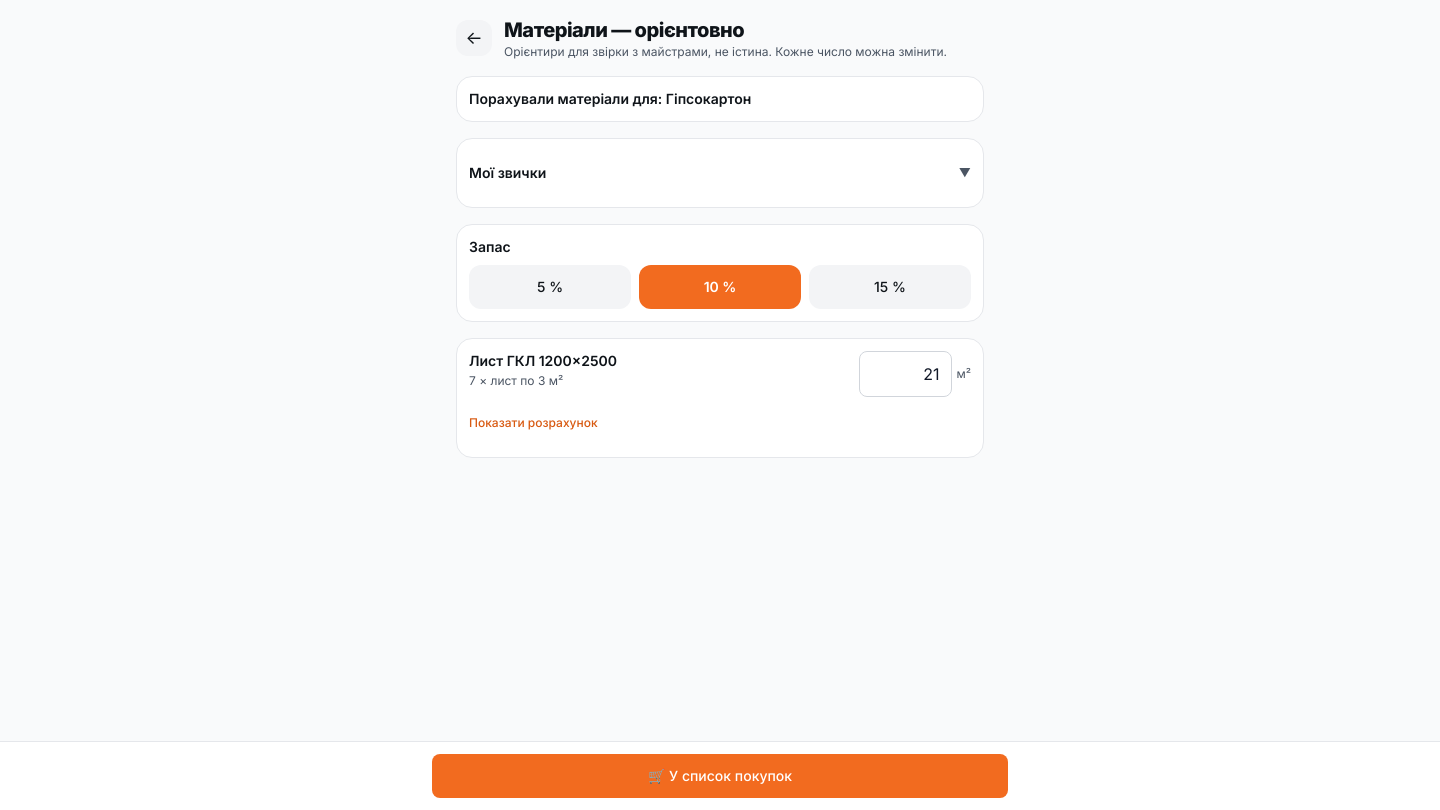
MaterialCalculatorPage › keeps the last answer on screen while a new allowance is being calculated
Expected: the text "Лист ГКЛ 1200×2500" is shown, [469,352,617,369]
What coordinates should you click on to do the following:
click the button "15 %"
I would click on:
 (890, 287)
Its box is [809,265,971,309].
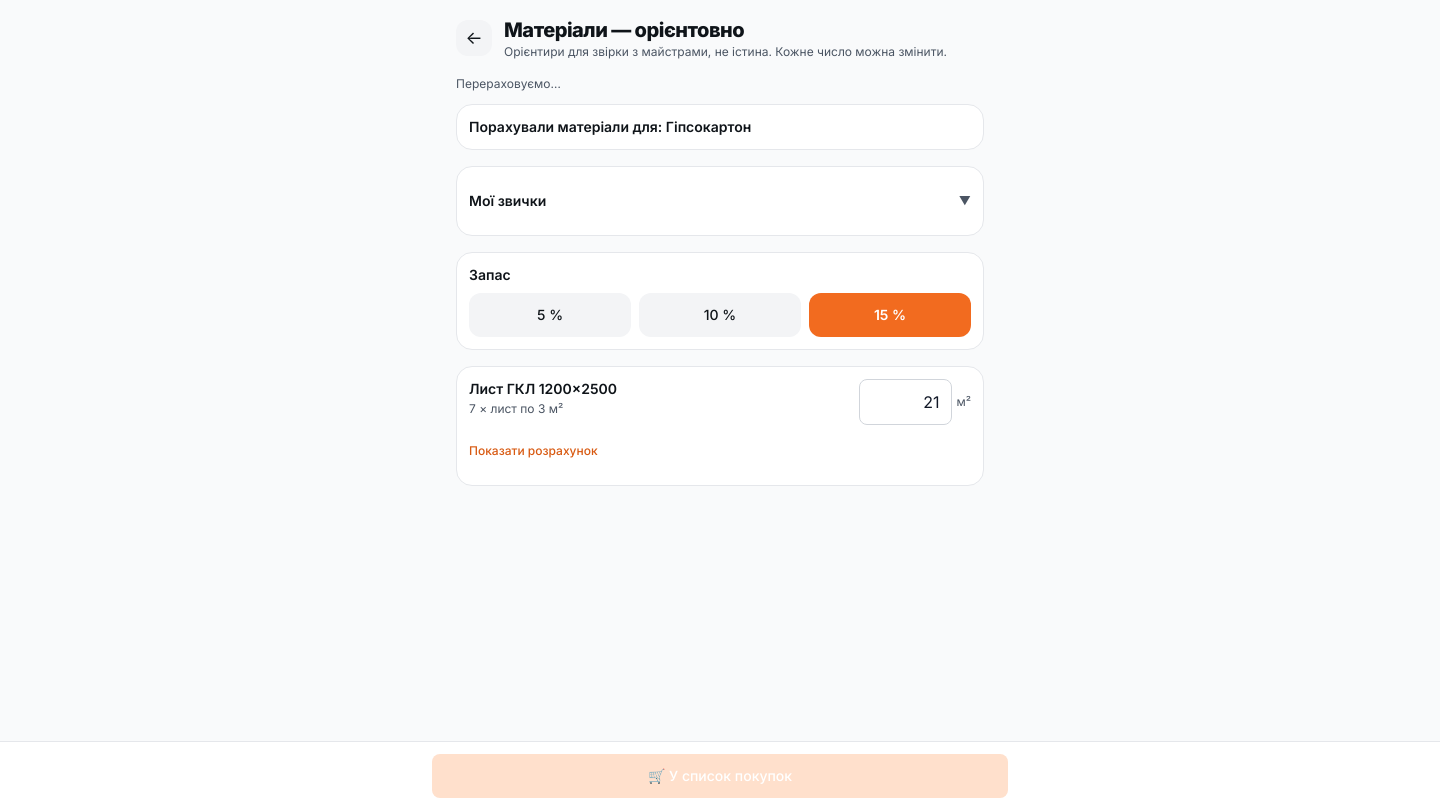
Expected: the text "Лист ГКЛ 1200×2500" is shown, [469,380,617,397]
Now the text "Перераховуємо…" is shown, box [456,76,561,91]
